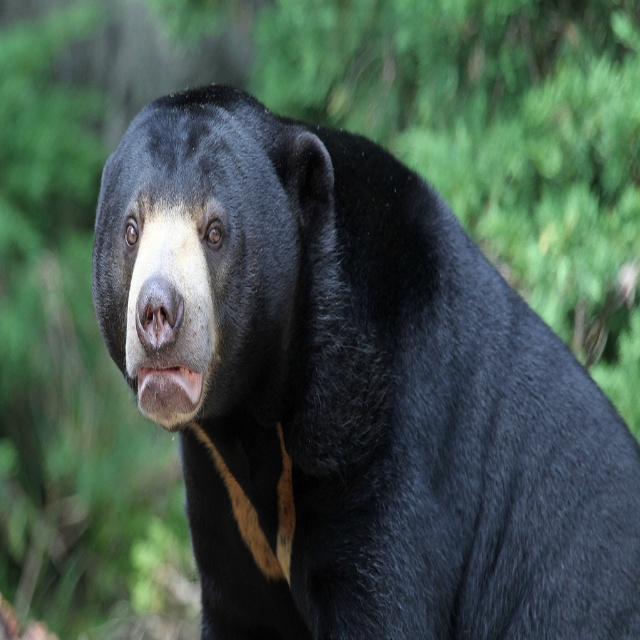Bear: (90, 86, 640, 639)
